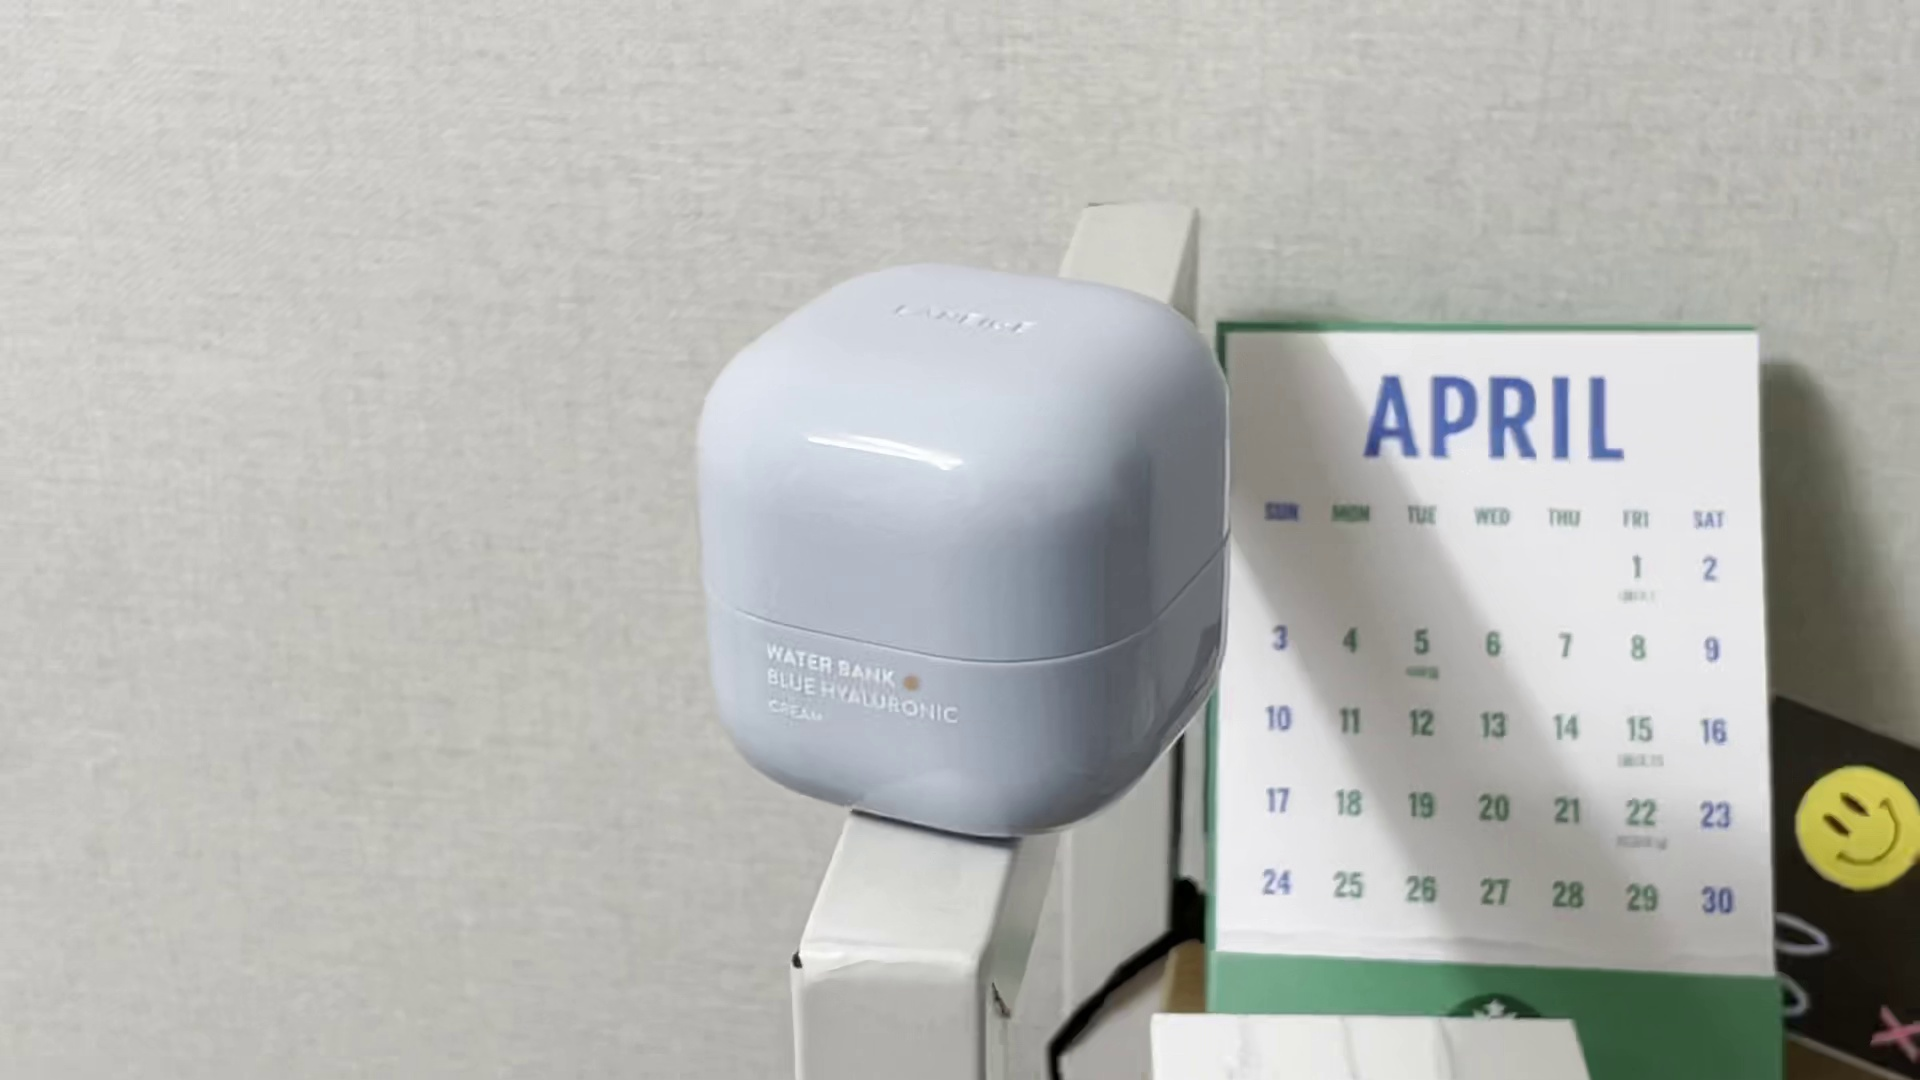cream: (695, 251, 1232, 833)
